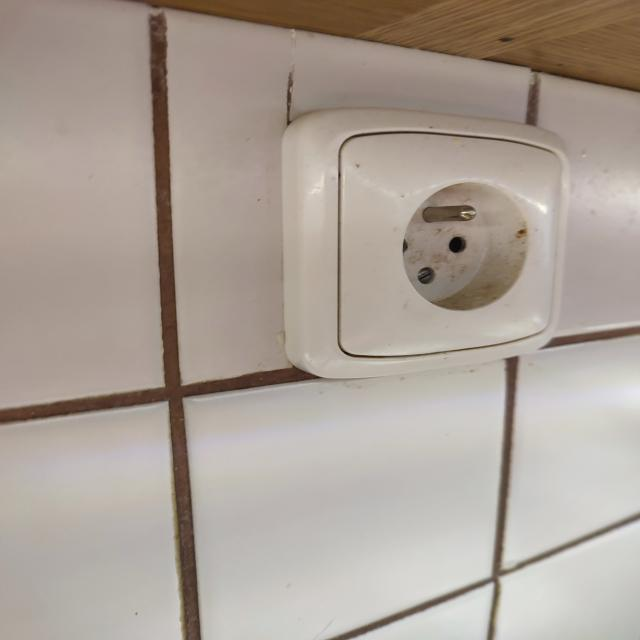house plug: (377, 158, 542, 343)
